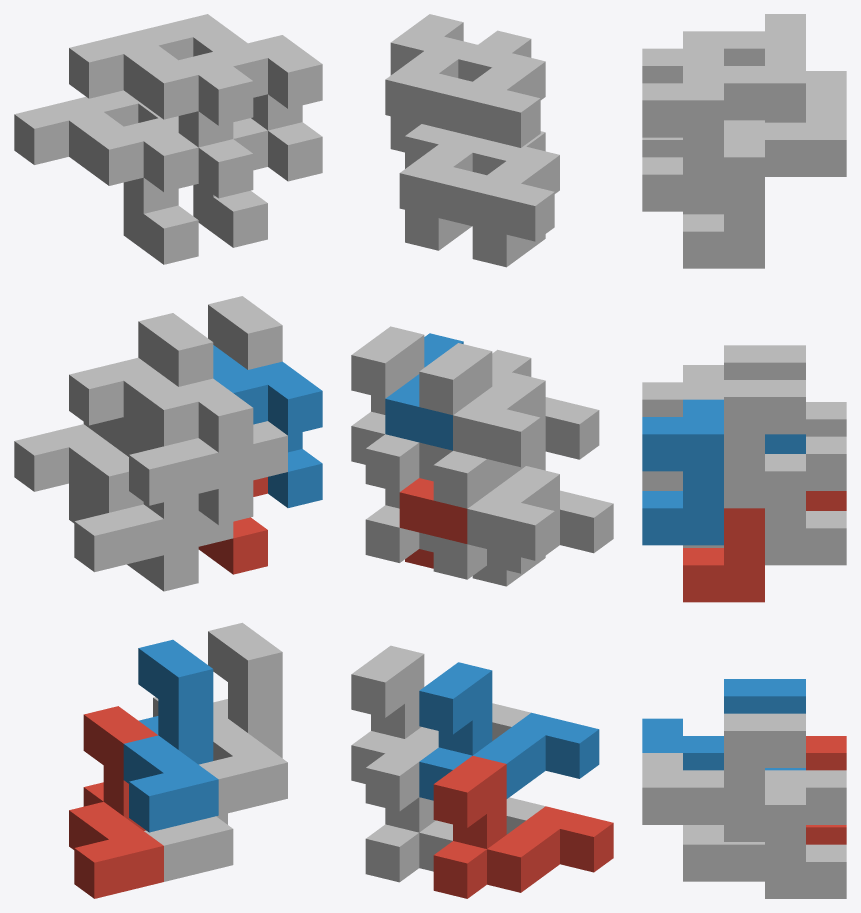
File: tiling.obj
3 renders of one model, left to right at view 1: azimuth 30°, elevation 25°; view 2: azimuth 150°, elevation 25°; view 3: azimuth 270°, elevation 25°, orthographic. The views are drawn at different scales.
Parts seen in each view (by area): view 1: copy_2_domain_3, copy_2_domain_4, copy_1_domain_2, copy_2_domain_2, copy_1_domain_6, copy_2_domain_8, copy_1_domain_1, copy_2_domain_1, copy_1_domain_4, copy_2_domain_6, copy_1_domain_8, copy_1_domain_3 (+4 smaller); view 2: copy_1_domain_1, copy_1_domain_2, copy_2_domain_3, copy_1_domain_5, copy_1_domain_3, copy_2_domain_4, copy_2_domain_7, copy_2_domain_8, copy_1_domain_4, copy_1_domain_6, copy_2_domain_2, copy_2_domain_1 (+4 smaller); view 3: copy_2_domain_8, copy_1_domain_6, copy_2_domain_7, copy_1_domain_5, copy_2_domain_6, copy_1_domain_8, copy_1_domain_7, copy_2_domain_5, copy_2_domain_4, copy_1_domain_2, copy_1_domain_4, copy_2_domain_2 (+3 smaller).
Part boxes in pixels (box(x1,y1,x2,y2)): copy_2_domain_3: box(14, 97, 198, 264); copy_2_domain_4: box(69, 31, 253, 198); copy_1_domain_2: box(123, 639, 218, 832); copy_2_domain_2: box(69, 357, 253, 524); copy_1_domain_6: box(199, 622, 287, 815); copy_2_domain_8: box(139, 14, 322, 181); copy_1_domain_1: box(69, 706, 163, 898); copy_2_domain_1: box(14, 424, 198, 591); copy_1_domain_4: box(123, 313, 218, 505); copy_2_domain_6: box(213, 345, 322, 507); copy_1_domain_8: box(208, 296, 287, 488); copy_1_domain_3: box(69, 417, 163, 572); copy_1_domain_1: box(433, 756, 613, 898); copy_1_domain_2: box(419, 662, 599, 800); copy_2_domain_3: box(467, 131, 559, 267); copy_1_domain_5: box(365, 739, 545, 882); copy_1_domain_3: box(433, 451, 613, 579); copy_2_domain_4: box(453, 30, 545, 147); copy_2_domain_7: box(399, 124, 488, 250); copy_2_domain_8: box(385, 14, 477, 152); copy_1_domain_4: box(419, 343, 599, 481); copy_1_domain_6: box(351, 645, 530, 783); copy_2_domain_2: box(453, 349, 545, 467); copy_2_domain_1: box(467, 452, 559, 586); copy_2_domain_8: box(642, 48, 805, 211); copy_1_domain_6: box(642, 713, 805, 841); copy_2_domain_7: box(683, 105, 846, 268); copy_1_domain_5: box(683, 770, 846, 898); copy_2_domain_6: box(642, 399, 805, 545); copy_1_domain_8: box(642, 380, 805, 508); copy_1_domain_7: box(683, 436, 846, 565); copy_2_domain_5: box(683, 491, 846, 602); copy_2_domain_4: box(642, 14, 805, 157); copy_1_domain_2: box(642, 679, 805, 770); copy_1_domain_4: box(724, 345, 805, 379); copy_2_domain_2: box(642, 365, 723, 416).
Bounding box in the file's own units: 6 × 22 × 5.
